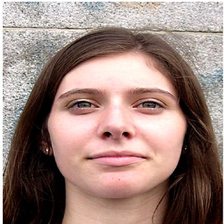no_mask: (46, 67, 187, 193)
